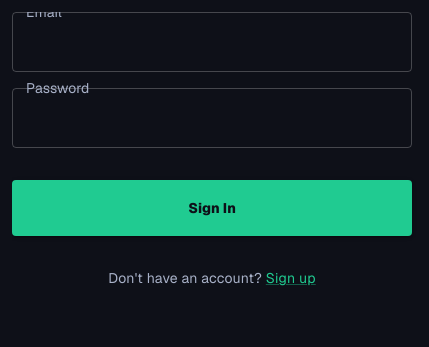
Test: SignInForm › renders a fallback error when signIn rejects
Type "a@b.com" into the field labelled "Email" at coordinates (212, 42), box [12, 12, 412, 72]
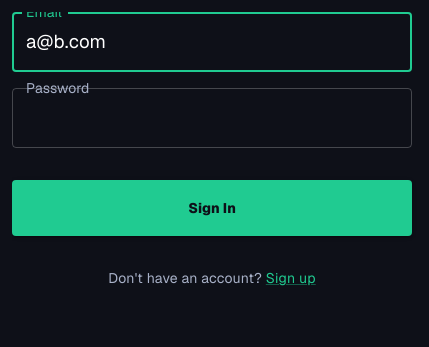
Type "pw" into the password field labelled "Password" at coordinates (212, 118), box [12, 88, 412, 148]
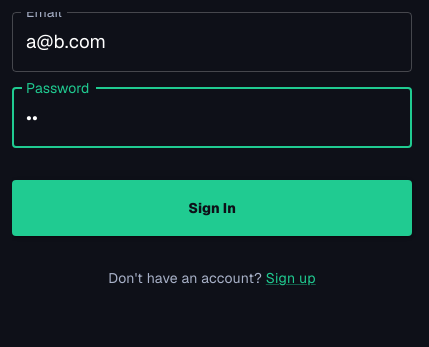
Click the button "Sign In" at coordinates (212, 208), box [12, 180, 412, 236]
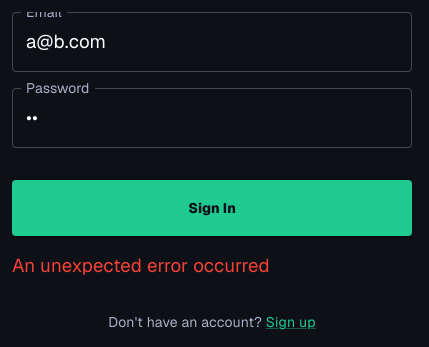
Expected: the text with test id "sign-in-error" shows "unexpected error", [12, 253, 270, 278]
